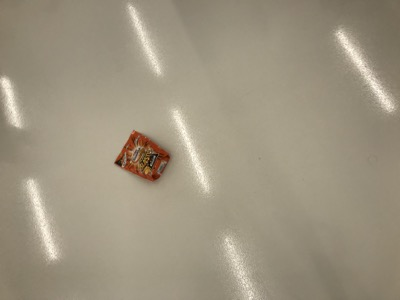goldfish: (113, 129, 171, 185)
